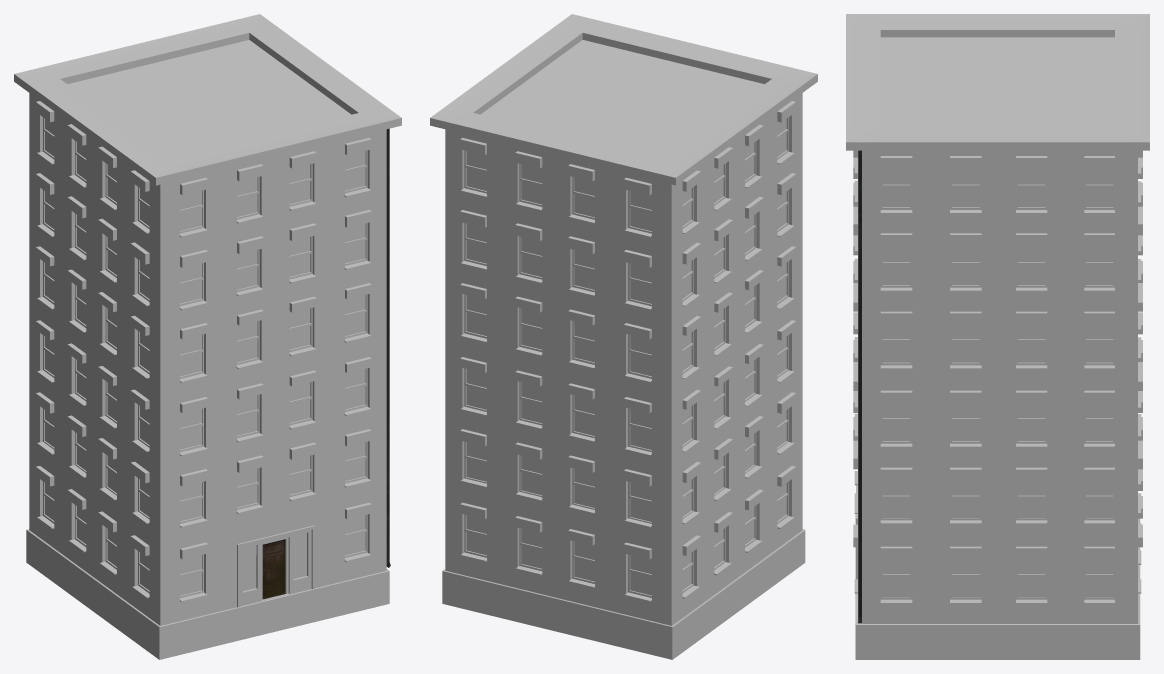
Rendered from Building_Home_sm.FBX.
3 views of the same model, side by side, from view 1: azimuth 30°, elevation 25°; view 2: azimuth 150°, elevation 25°; view 3: azimuth 270°, elevation 25° (orthographic). The views are drawn at different scales.
Visible parts, largest first — view 1: Building_Home_sm_LOD0; view 2: Building_Home_sm_LOD0; view 3: Building_Home_sm_LOD0.
Boxes of the visible parts, x1,y1,x2,y2 form: Building_Home_sm_LOD0: (14,14,401,659); Building_Home_sm_LOD0: (430,14,817,659); Building_Home_sm_LOD0: (846,14,1149,659).
Size of what is drawn, in the model's own units: 2043 by 2043 by 3869.
